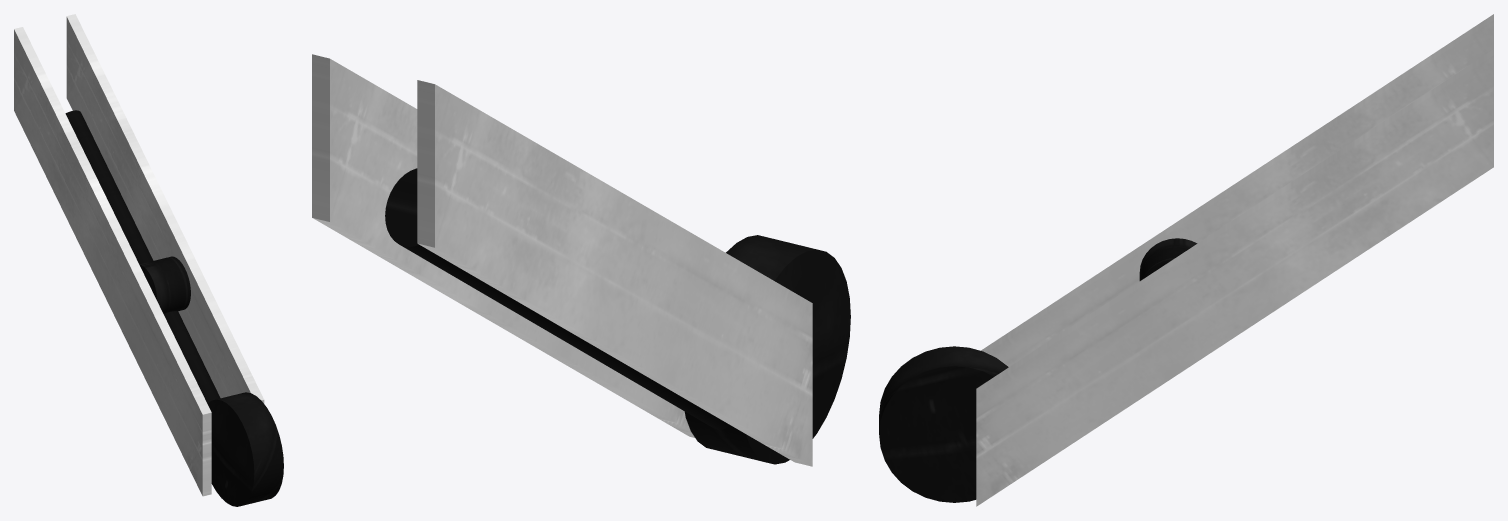
File: right_lower_leg.obj
3 views of the same model, side by side, from view 1: azimuth 30°, elevation 25°; view 2: azimuth 150°, elevation 25°; view 3: azimuth 270°, elevation 25° (orthographic). The views are drawn at different scales.
Parts seen in each view (by area): view 1: Cube.008, Cylinder.017, Cylinder.016, Cylinder.070; view 2: Cube.008, Cylinder.017, Cylinder.016; view 3: Cube.008, Cylinder.017, Cylinder.070.
Part boxes in pixels (box(x1,y1,x2,y2)): Cube.008: box(14, 14, 264, 496); Cylinder.017: box(207, 392, 283, 506); Cylinder.016: box(65, 110, 220, 403); Cylinder.070: box(139, 256, 190, 313); Cube.008: box(312, 54, 812, 466); Cylinder.017: box(684, 235, 850, 464); Cylinder.016: box(385, 168, 729, 429); Cube.008: box(976, 14, 1493, 506); Cylinder.017: box(879, 346, 1008, 502); Cylinder.070: box(1139, 238, 1197, 280).
Size of the model in its own units: 0.0903 by 0.4683 by 0.5694.
